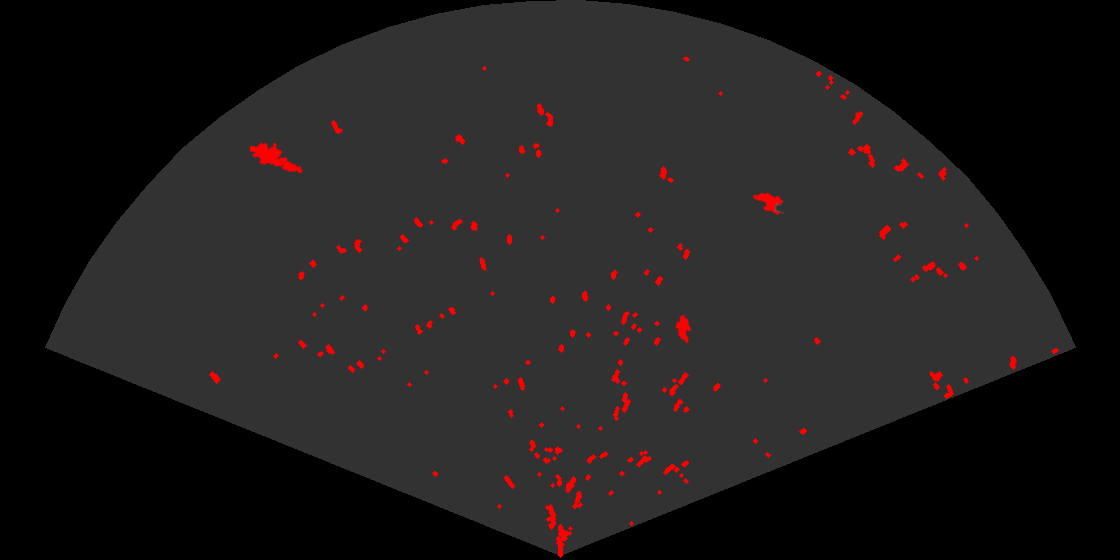AUV: (751, 191, 785, 217), (674, 313, 693, 345)
frogman: (250, 141, 305, 175)
